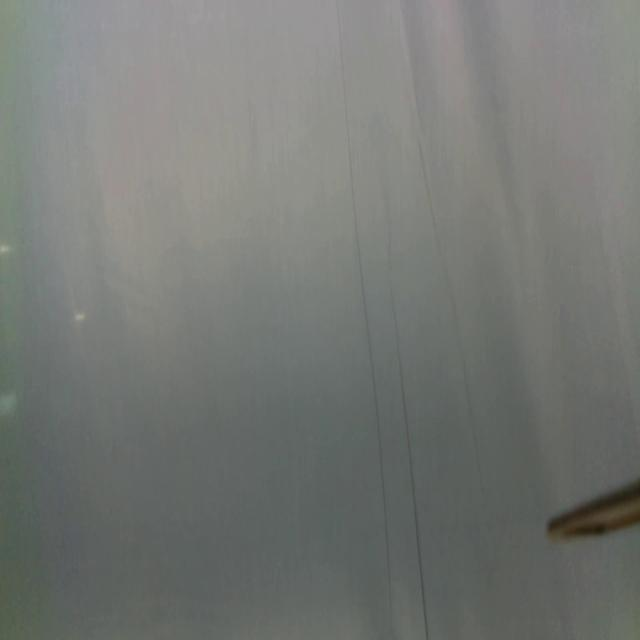crease: (337, 0, 394, 640), (416, 140, 484, 493), (395, 327, 429, 640), (398, 1, 423, 129)
